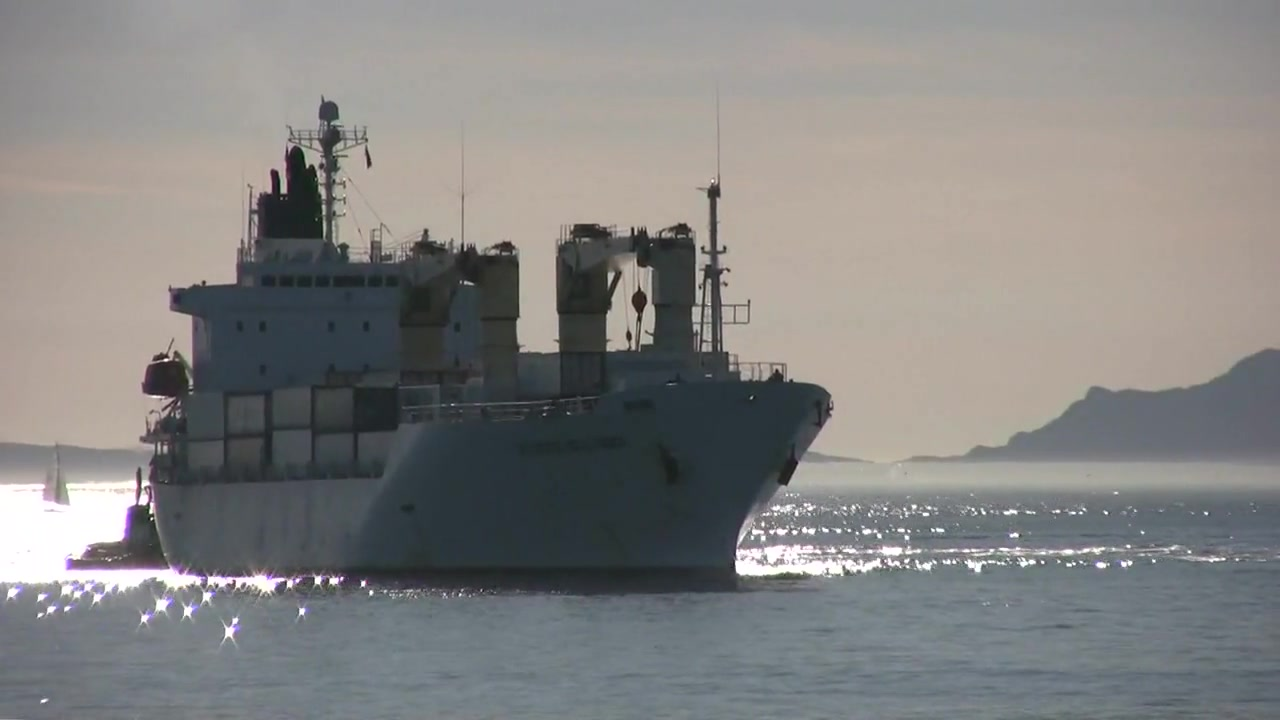boat: (145, 95, 835, 595), (62, 467, 172, 578), (37, 444, 74, 515)
